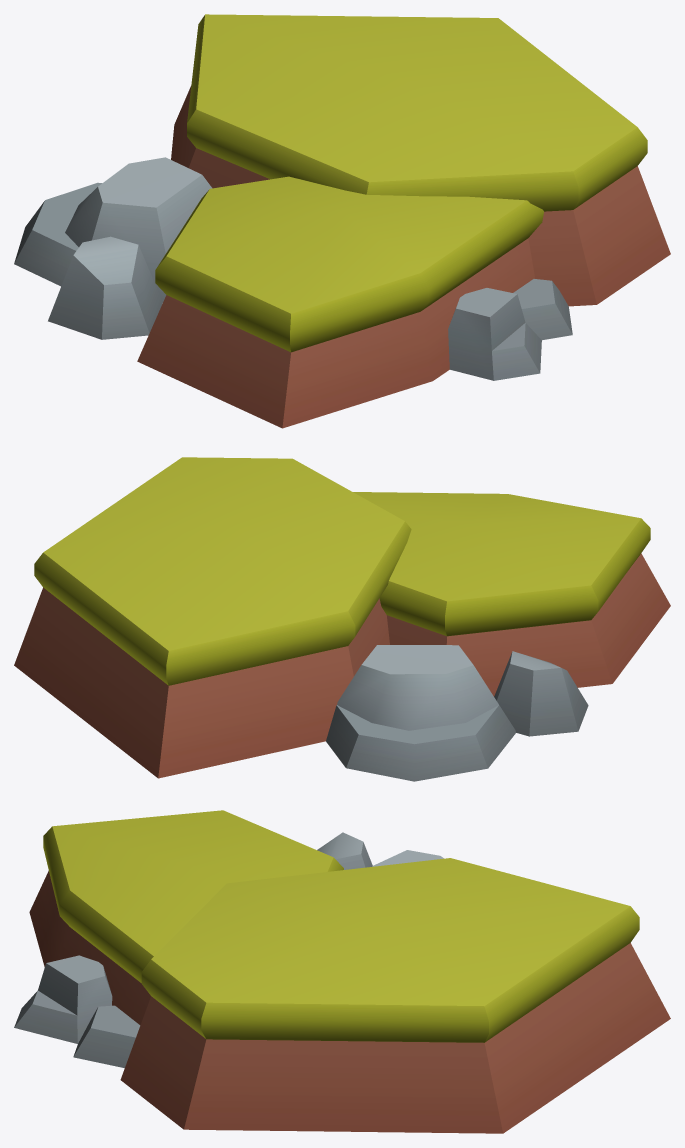
Rendered from kaykit-medieval-hexagon-pack-hills-b.glb.
3 views of the same model, one above another, from view 1: azimuth 30°, elevation 25°; view 2: azimuth 150°, elevation 25°; view 3: azimuth 270°, elevation 25° (orthographic). The views are drawn at different scales.
Visible parts, largest first — view 1: hills_B; view 2: hills_B; view 3: hills_B.
Part boxes in pixels (x1=…): hills_B: x1=14, y1=14, x2=670, y2=428; hills_B: x1=14, y1=457, x2=670, y2=781; hills_B: x1=14, y1=810, x2=670, y2=1133.
Bounding box in the file's own units: 1.47 × 0.3659 × 1.62.
1 material, 1 textured.
